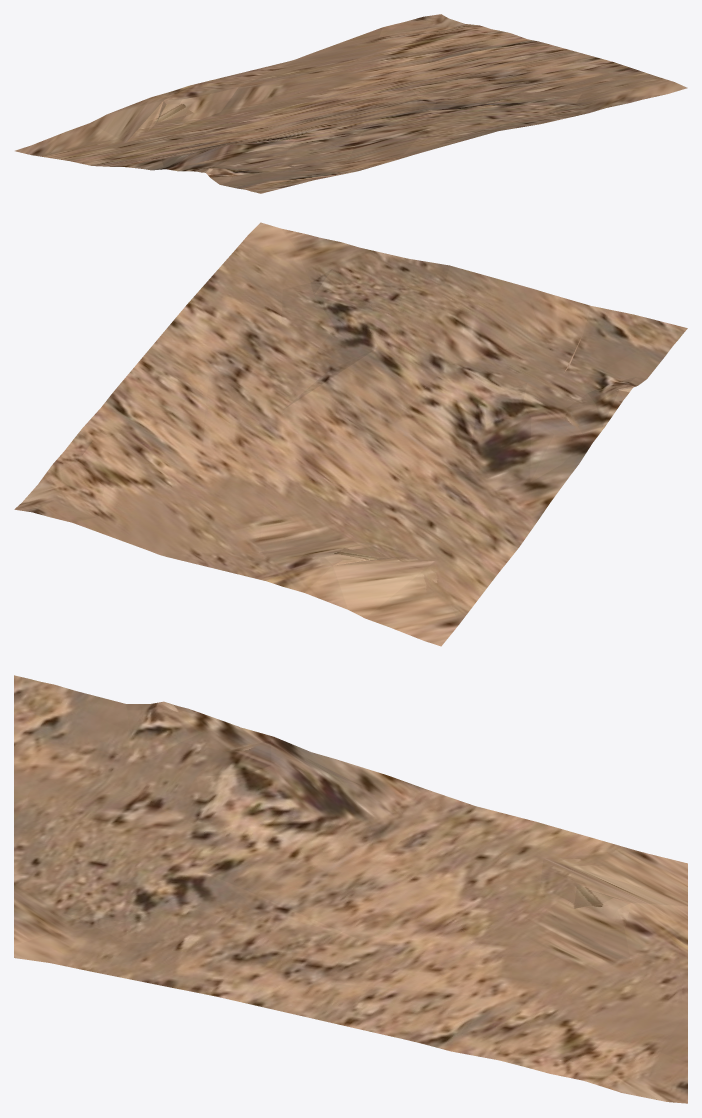
3 views of the same model, one above another, from view 1: azimuth 30°, elevation 25°; view 2: azimuth 150°, elevation 25°; view 3: azimuth 270°, elevation 25° (orthographic). The views are drawn at different scales.
Size of the model in its own units: 1.04 by 0.3326 by 1.04.
3 materials, 3 textured.
